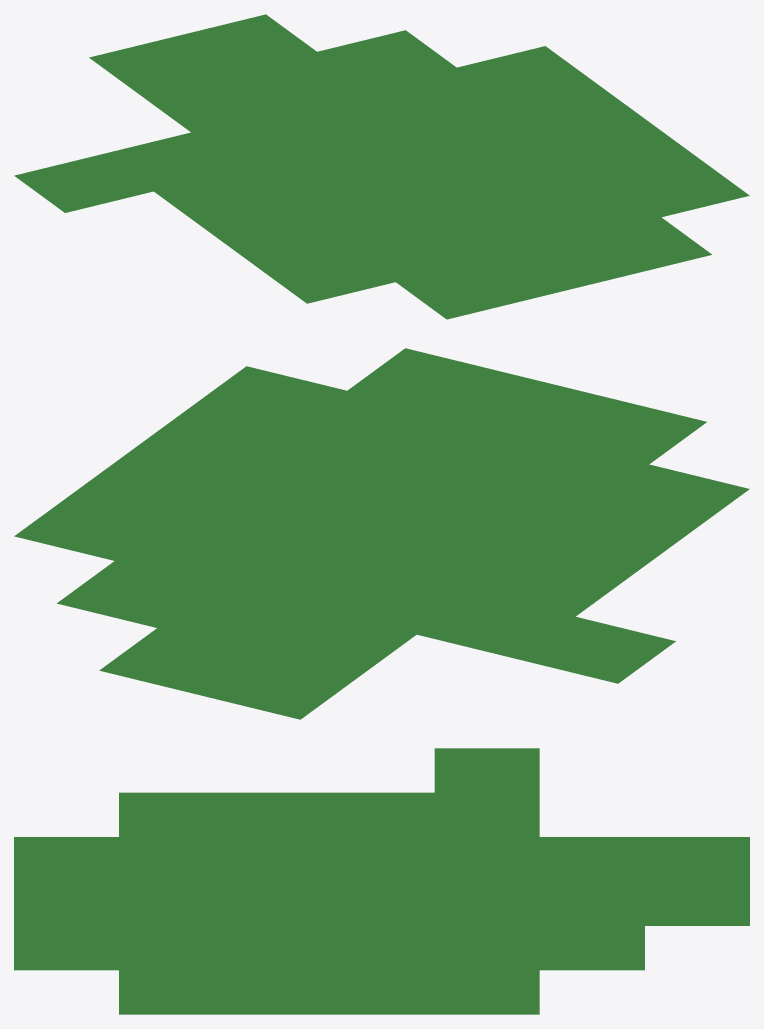
Rendered from Isl-islet3-TreesArea.fbx.
3 renders of one model, top to bottom at view 1: azimuth 30°, elevation 25°; view 2: azimuth 150°, elevation 25°; view 3: azimuth 270°, elevation 25°, orthographic. The views are drawn at different scales.
Parts seen in each view (by area): view 1: Isl-islet3-TreesArea; view 2: Isl-islet3-TreesArea; view 3: Isl-islet3-TreesArea.
Part boxes in pixels (x1,y1,x2,y2): Isl-islet3-TreesArea: (14,14,749,319); Isl-islet3-TreesArea: (14,348,749,719); Isl-islet3-TreesArea: (14,748,749,1014).
Size of the model in its own units: 6 by 0 by 7.
